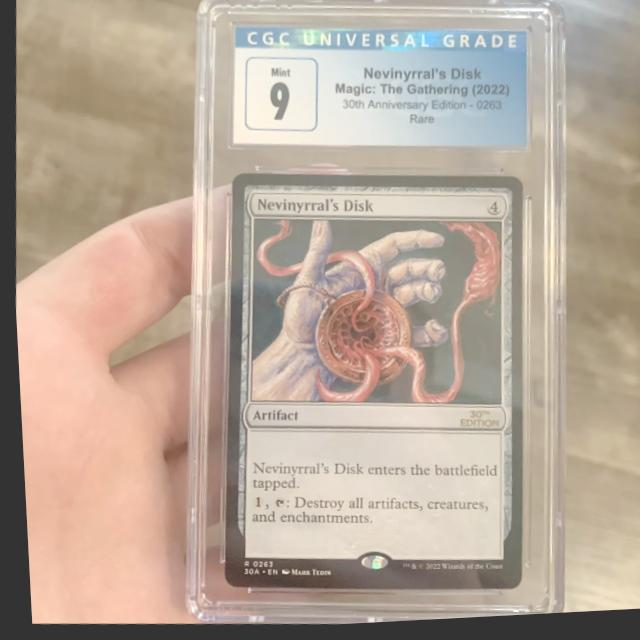card: (219, 175, 522, 595)
cgc_label_old: (231, 28, 527, 153)
cgc_slab: (179, 0, 566, 627)
